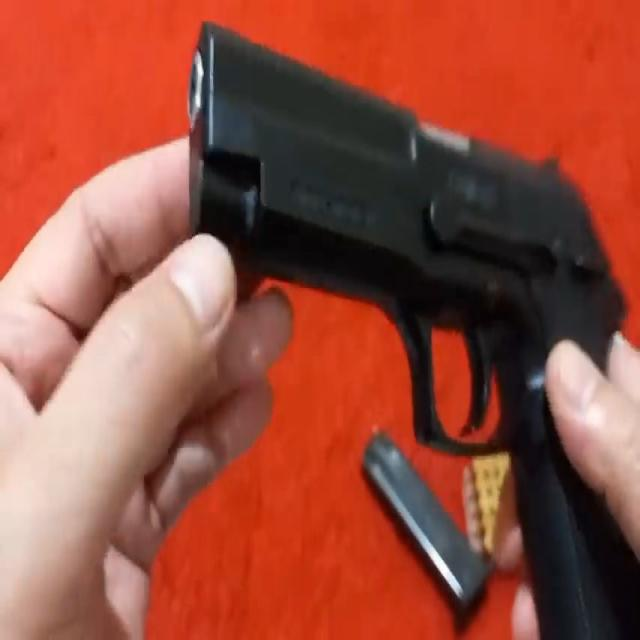handgun: (185, 9, 640, 640)
